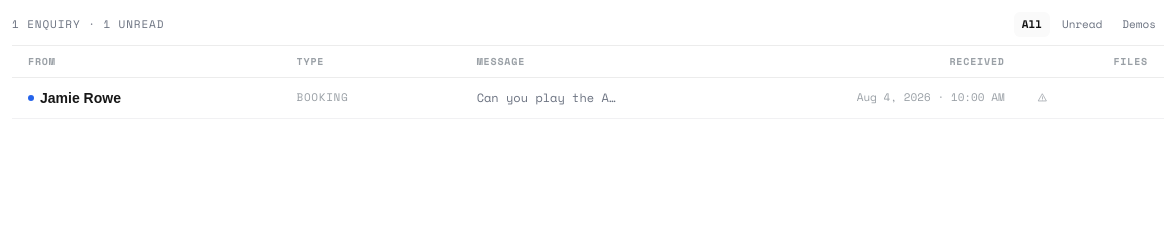
Test case: EnquiryTable — delivery state › CRITICAL: says when a message was never emailed
The image size is (1176, 236).
Click the text "Jamie Rowe" at [80, 98], box [40,88,121,108]
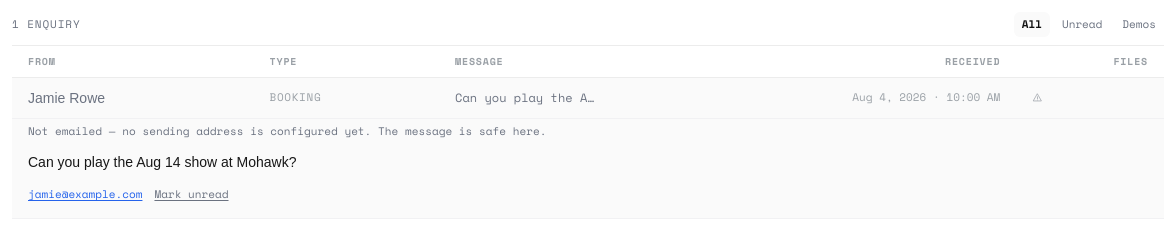
Expected: the text "Not emailed" is shown, [28,122,546,138]
